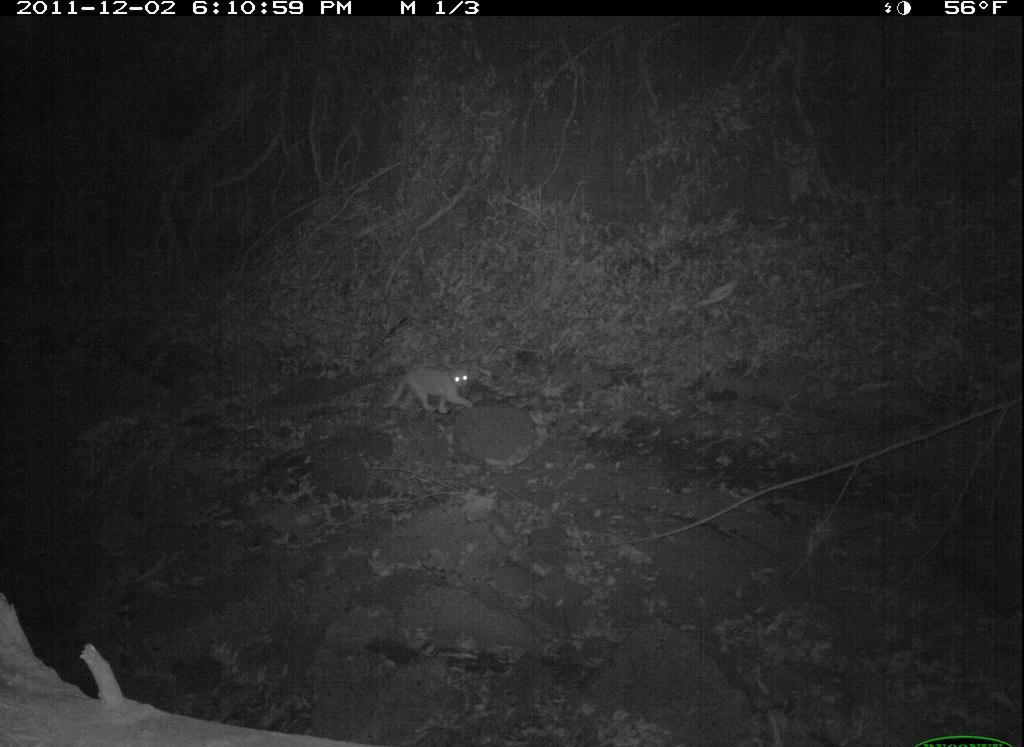cat: (383, 360, 474, 420)
